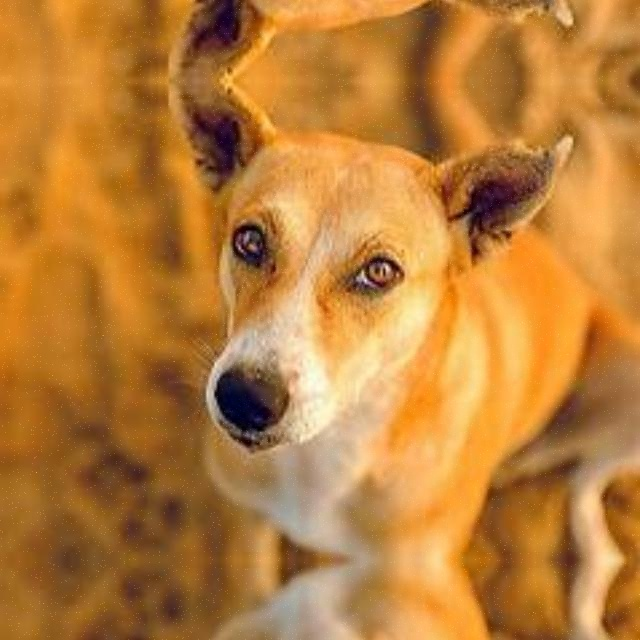dog: (172, 81, 622, 542), (172, 0, 623, 79), (172, 577, 623, 640)
